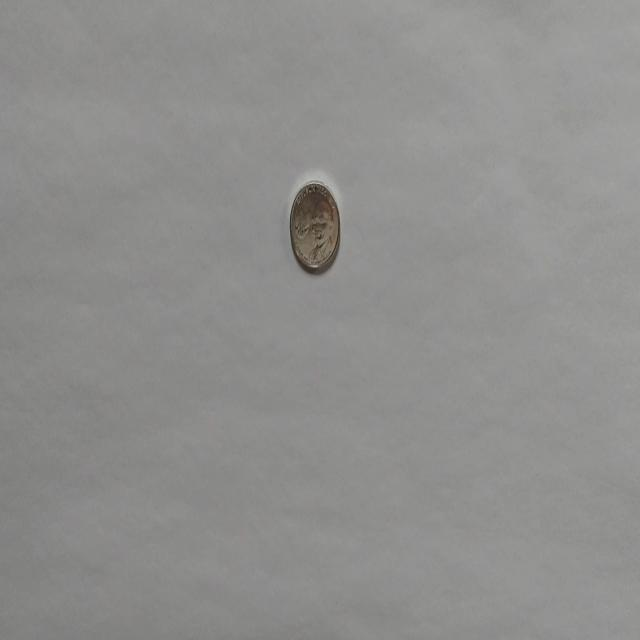lima ratus rupiah: (288, 179, 340, 273)
